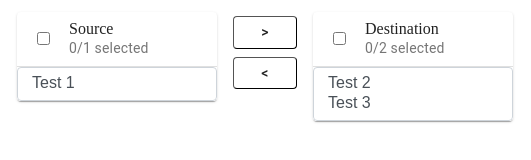
Test: Testing OnClick Events › Testing Transfer › transfer some options to left
expect the text "0/1 selected" is shown: met, box x1=69 y1=40 x2=148 y2=56
expect the text "0/2 selected" is shown: met, box x1=365 y1=40 x2=444 y2=56
Select "Test 3" in the dropdown with test id "select-multiple" below "Destination" at [413, 94], box x1=313 y1=67 x2=513 y2=121
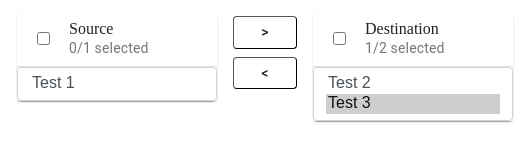
expect the text "1/2 selected" is shown: met, box x1=365 y1=40 x2=444 y2=56
Click the button "<" at [265, 73], box x1=233 y1=56 x2=297 y2=89
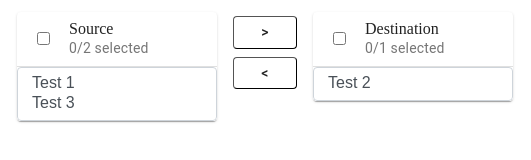
expect the text "0/2 selected" is shown: met, box x1=69 y1=40 x2=148 y2=56
expect the text "0/1 selected" is shown: met, box x1=365 y1=40 x2=444 y2=56
